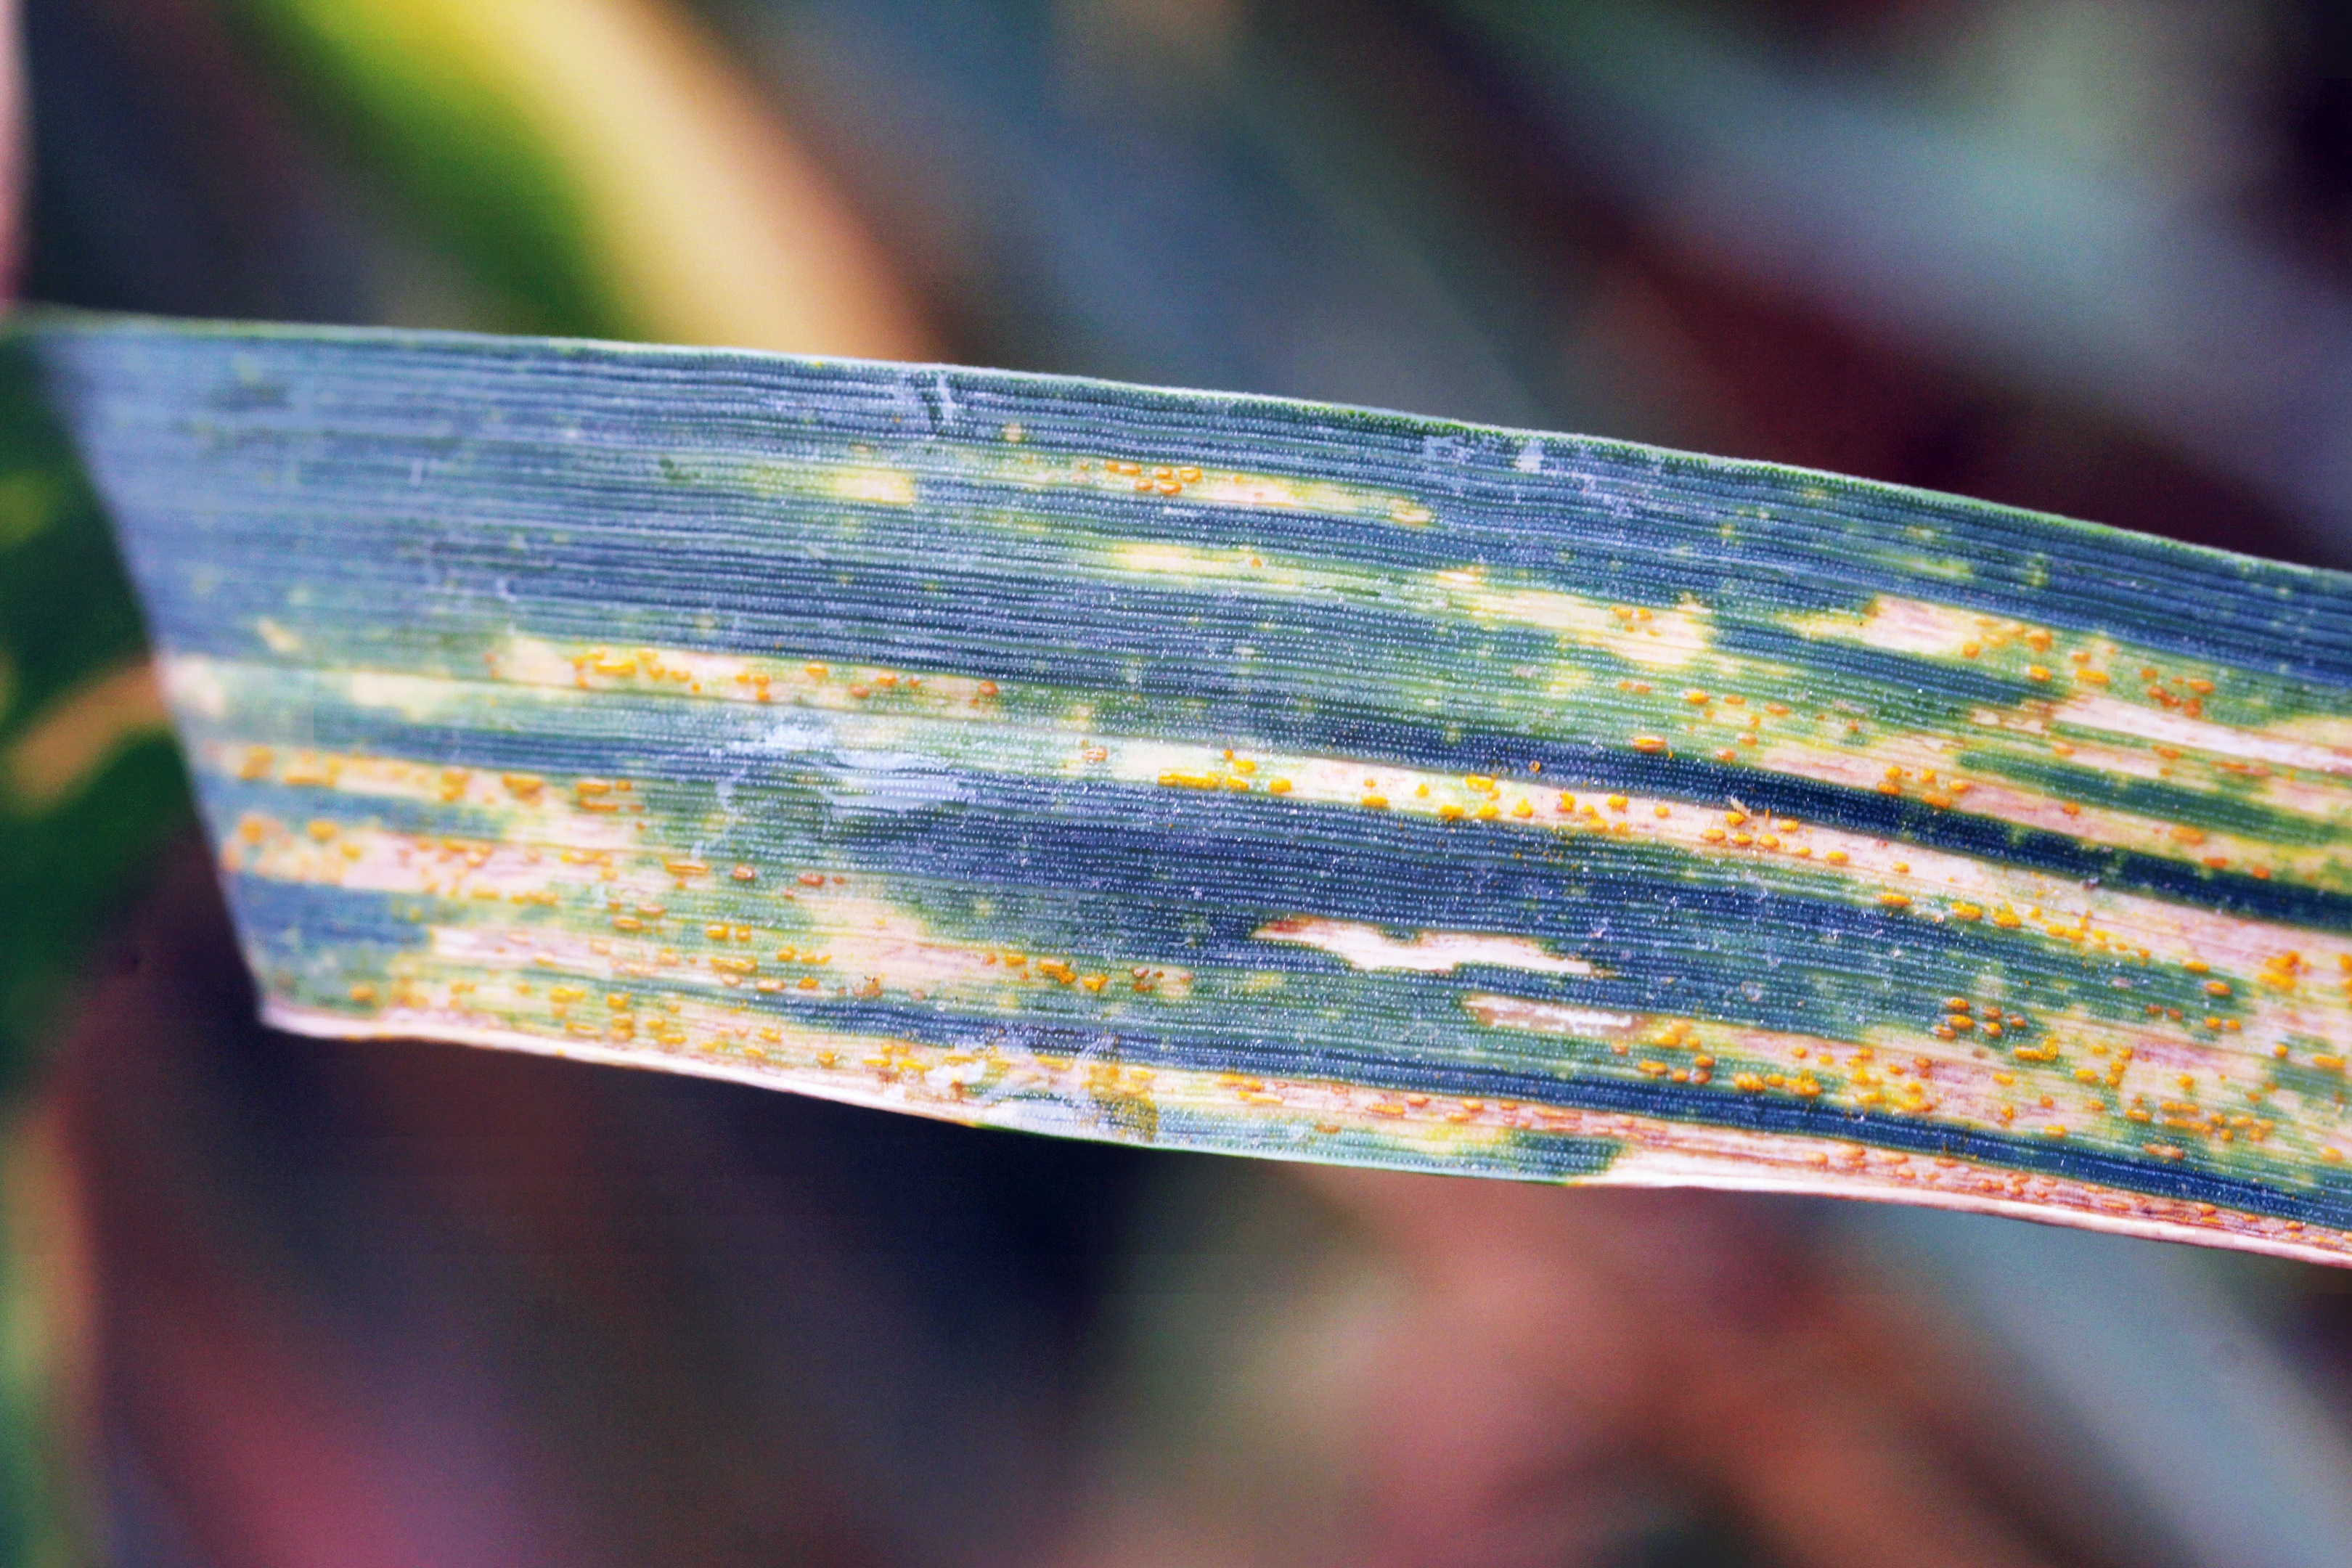Leaf Rust: (268, 551, 2151, 1255)
